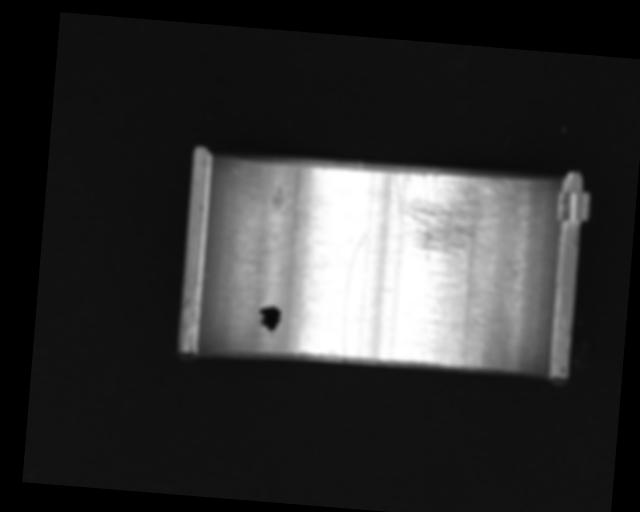blot: (256, 303, 283, 338)
bruise: (269, 183, 286, 210)
nick: (339, 230, 367, 360)
scratch: (385, 165, 510, 268)
